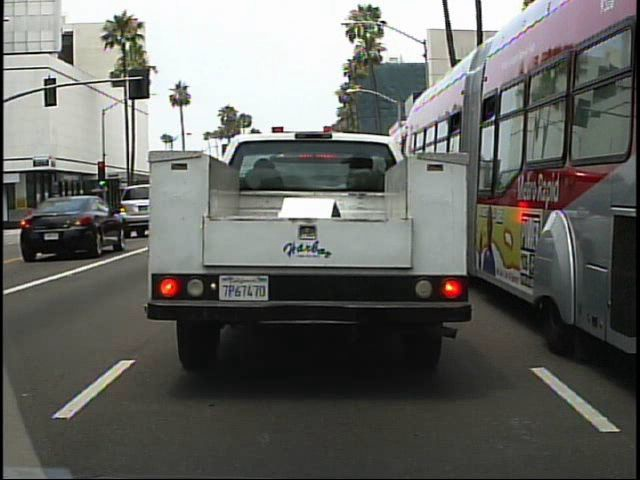person: (19, 200, 38, 235)
